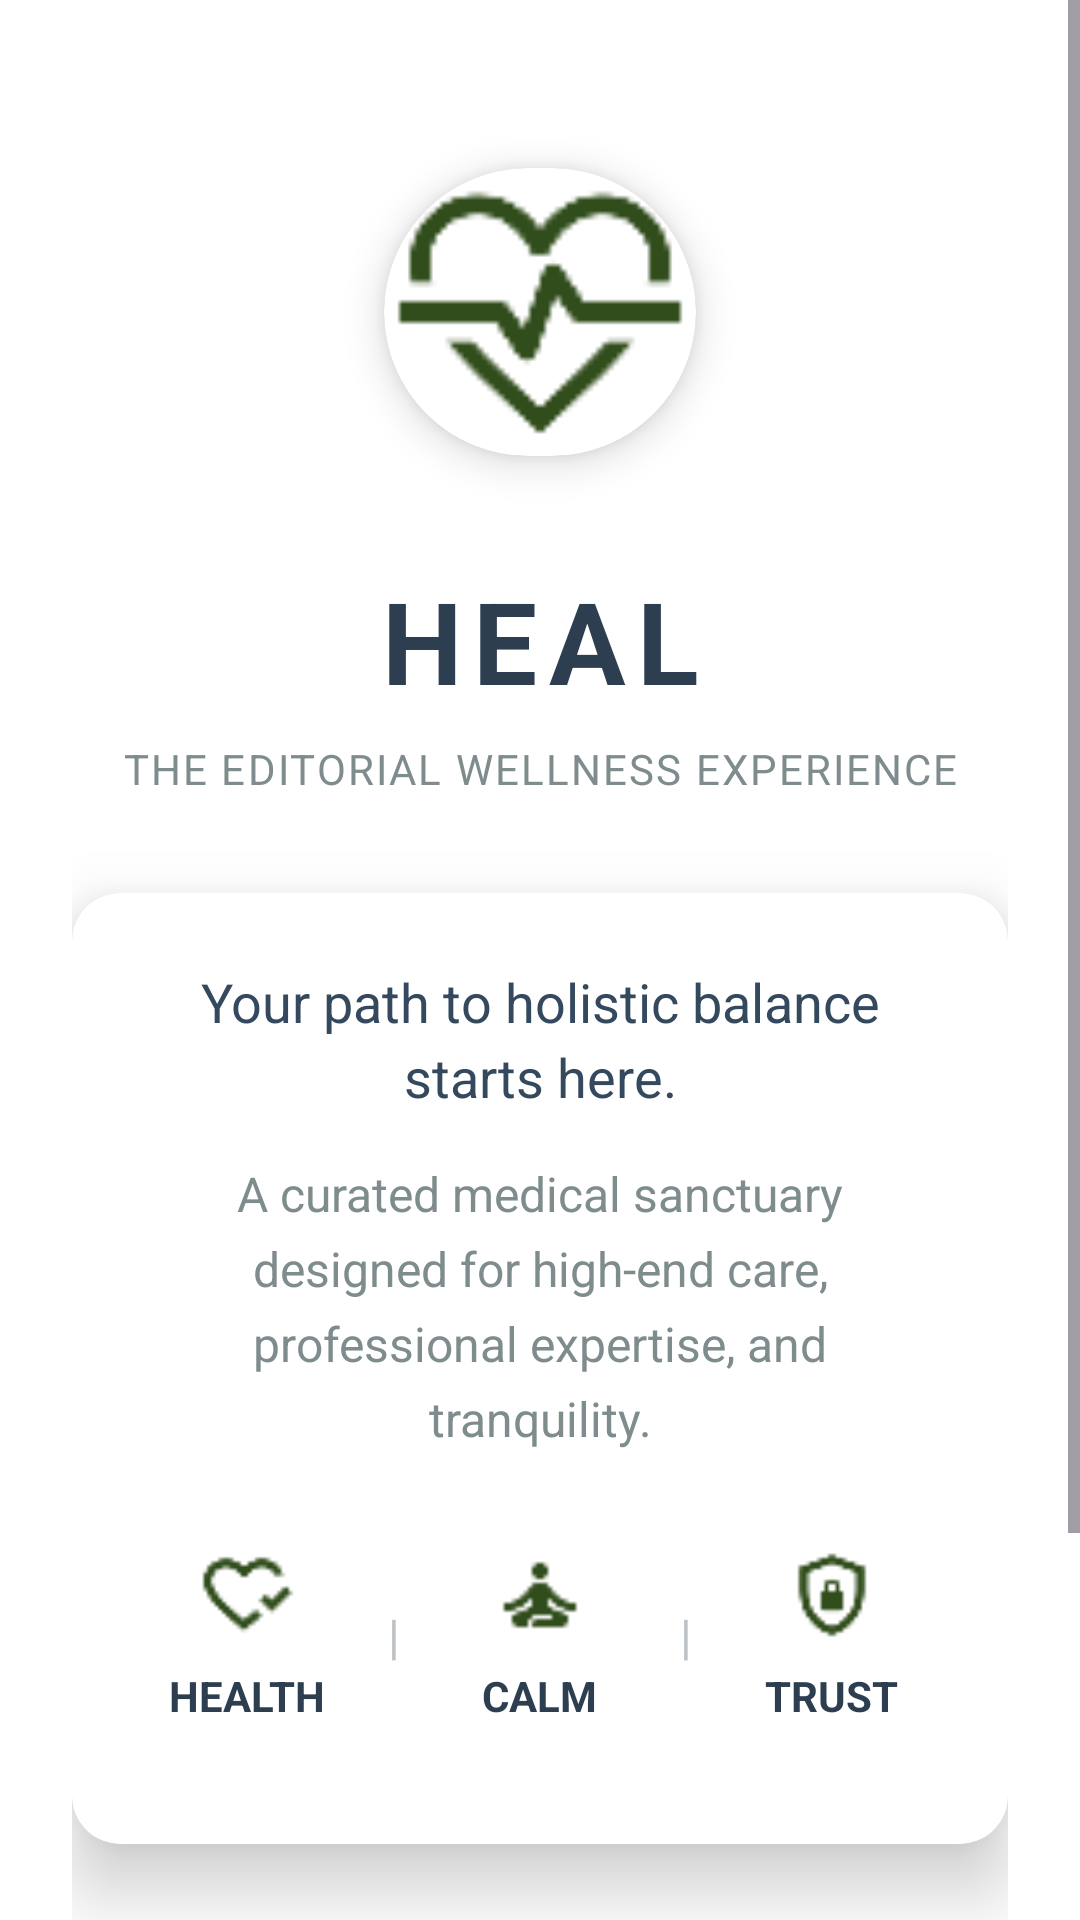

Icons on this 1080 x 1920 Android screen, each with its box as (x1, y1, x2, y2):
heart: (202, 1557, 293, 1632)
